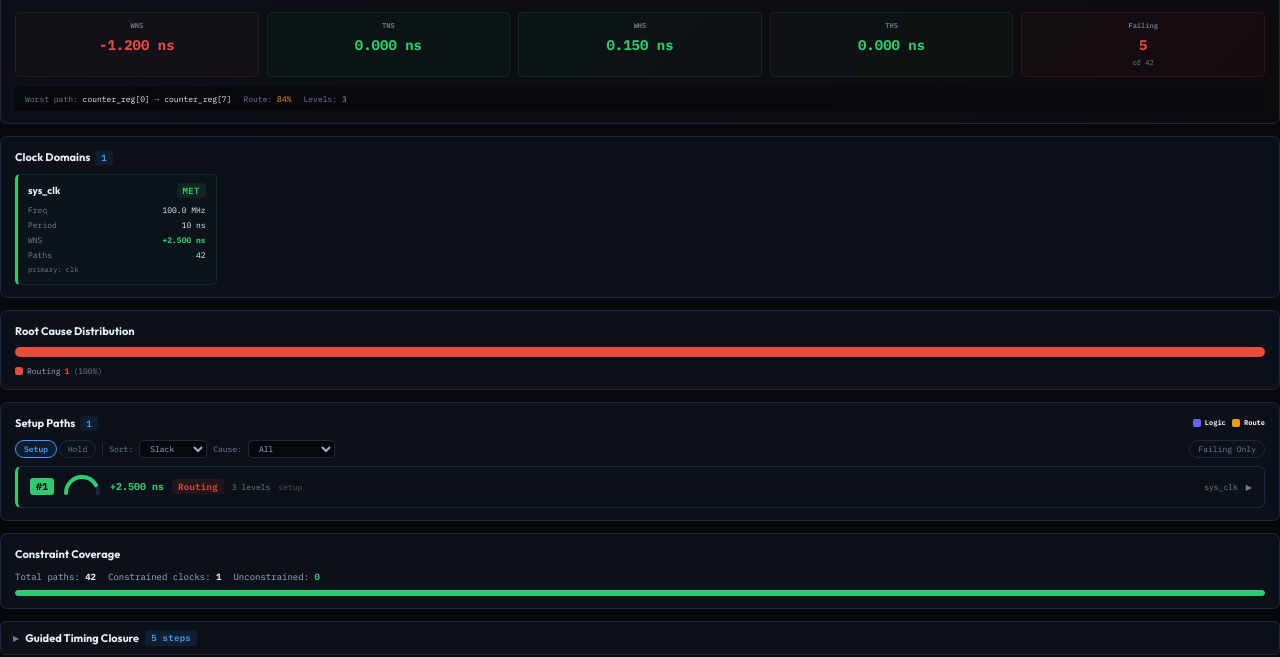
TimingAnalyzer › wizard shows correct status for failing paths
(page scrolled)
Click the text "Guided Timing Closure" at (82,638), box x1=25 y1=630 x2=139 y2=646
(page scrolled)
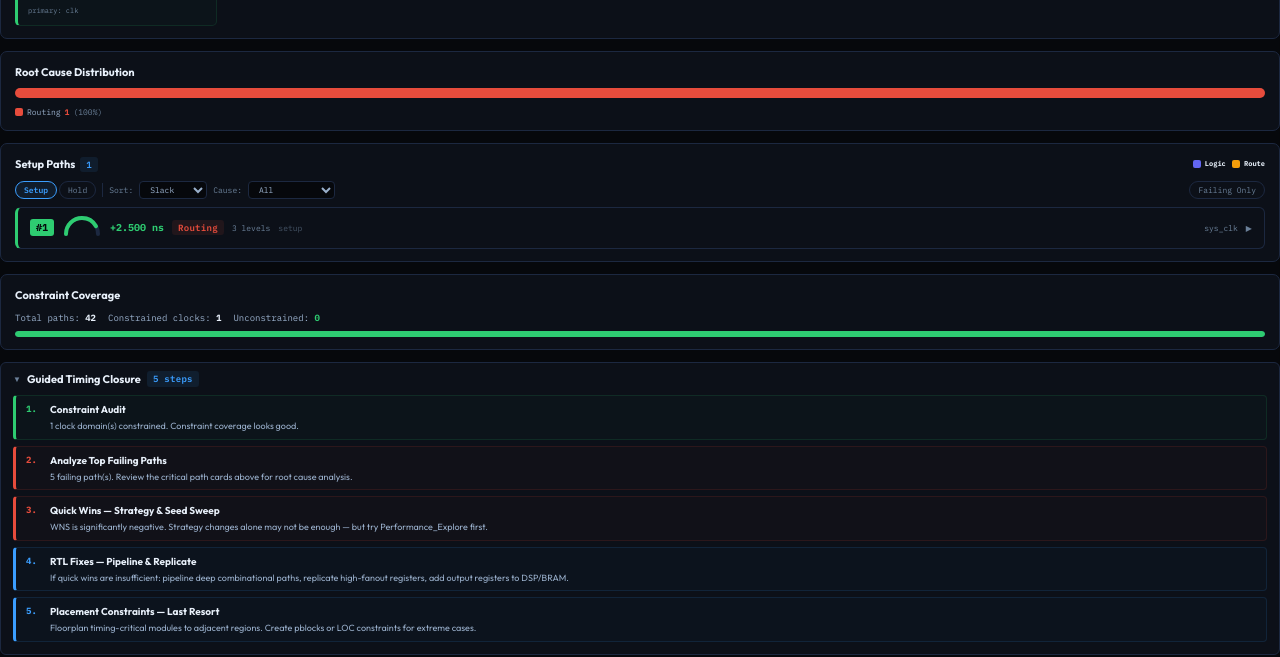
Check: the text "5 failing path" is shown, box x1=50 y1=470 x2=352 y2=482
